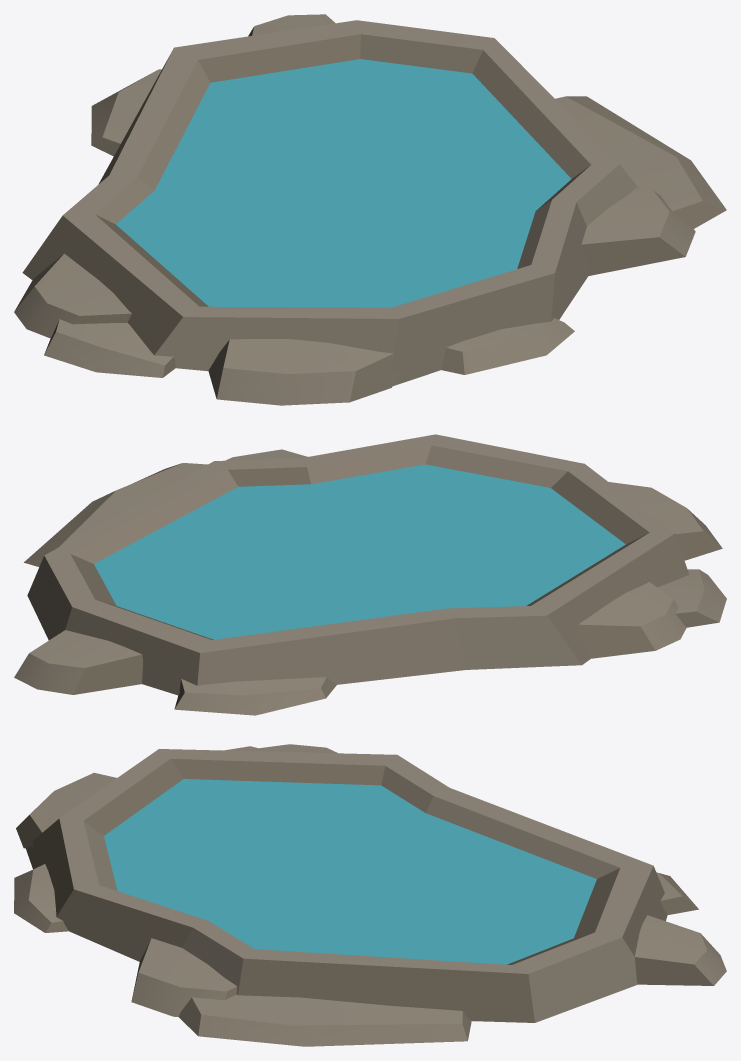
The model's file is SF_Env_Waterpool_01.fbx.
3 renders of one model, top to bottom at view 1: azimuth 30°, elevation 25°; view 2: azimuth 150°, elevation 25°; view 3: azimuth 270°, elevation 25°, orthographic. The views are drawn at different scales.
Visible parts, largest first — view 1: SF_Env_Waterpool_01; view 2: SF_Env_Waterpool_01; view 3: SF_Env_Waterpool_01.
Part boxes in pixels (x1,y1,x2,y2): SF_Env_Waterpool_01: (14, 14, 726, 405); SF_Env_Waterpool_01: (14, 434, 726, 715); SF_Env_Waterpool_01: (14, 744, 726, 1046).
Bounding box in the file's own units: 20.83 × 1.38 × 21.13.
